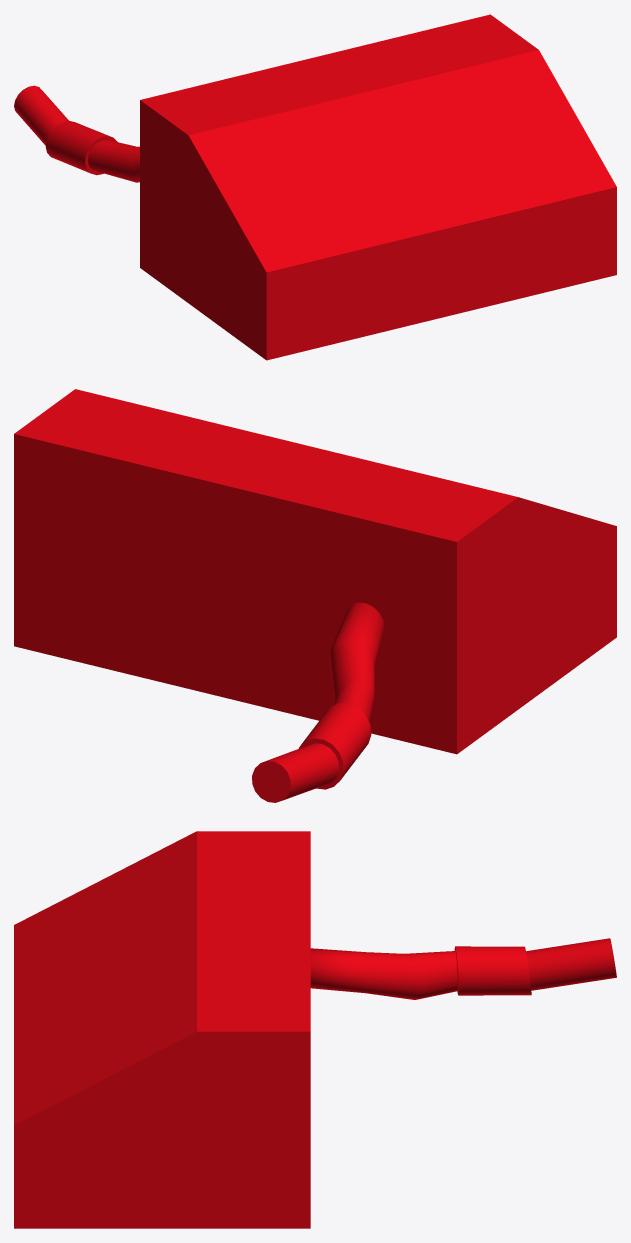
The model's file is komono14.fbx.
The picture shows the model from 3 angles, top to bottom: view 1: azimuth 30°, elevation 25°; view 2: azimuth 150°, elevation 25°; view 3: azimuth 270°, elevation 25°; orthographic projection. The views are drawn at different scales.
Parts seen in each view (by area): view 1: Cube.015, Cylinder.018; view 2: Cube.015, Cylinder.018; view 3: Cube.015, Cylinder.018.
Part boxes in pixels (box(x1,y1,x2,y2)): Cube.015: box(140, 14, 616, 360); Cylinder.018: box(14, 85, 139, 182); Cube.015: box(14, 389, 616, 754); Cylinder.018: box(252, 602, 384, 802); Cube.015: box(14, 831, 310, 1228); Cylinder.018: box(310, 938, 616, 999).
Size of the model in its own units: 123 by 56.2 by 156.
